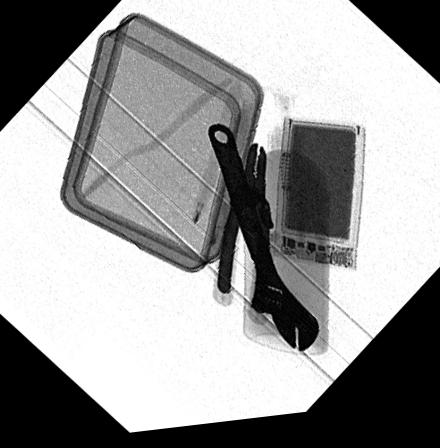Pliers: (215, 147, 269, 320)
Powerbank: (273, 123, 367, 280)
Wrench: (204, 129, 318, 361)
